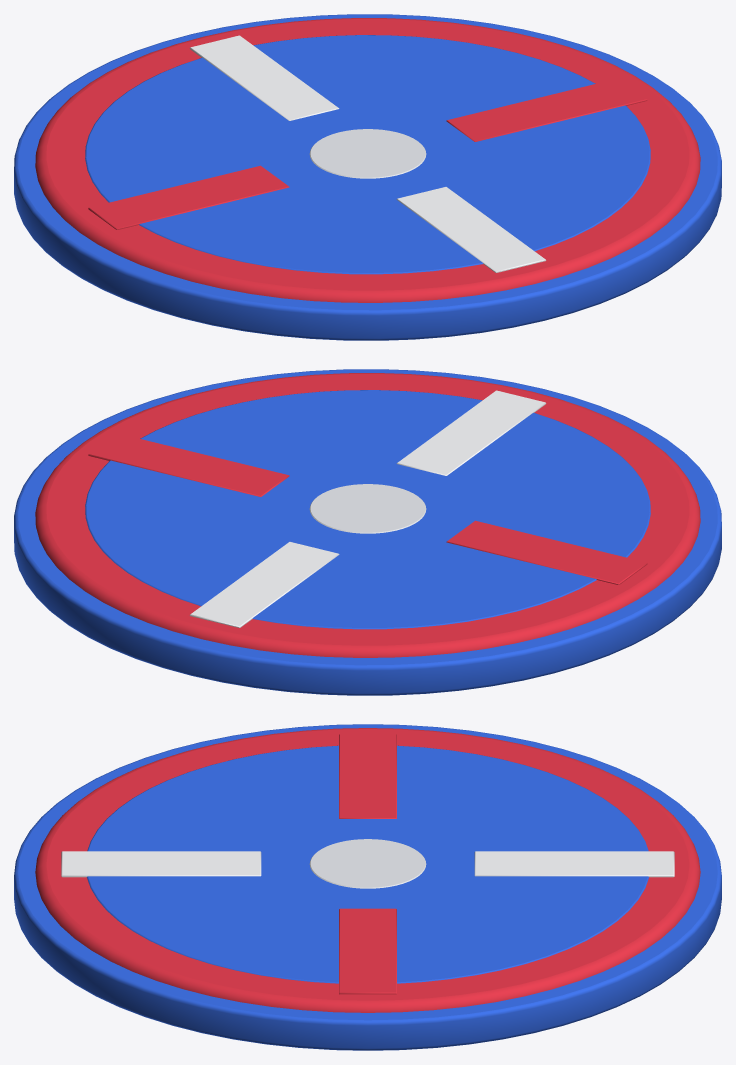
File: SD_SpinDisc.fbx
The picture shows the model from 3 angles, top to bottom: view 1: azimuth 30°, elevation 25°; view 2: azimuth 150°, elevation 25°; view 3: azimuth 270°, elevation 25°; orthographic projection.
Visible parts, largest first — view 1: Disc; view 2: Disc; view 3: Disc.
Part boxes in pixels (left/top/right/bottom): Disc: left=14, top=14, right=721, bottom=340; Disc: left=14, top=369, right=721, bottom=695; Disc: left=14, top=724, right=721, bottom=1050.
Size of the model in its own units: 8.5 by 0.52 by 8.5.
